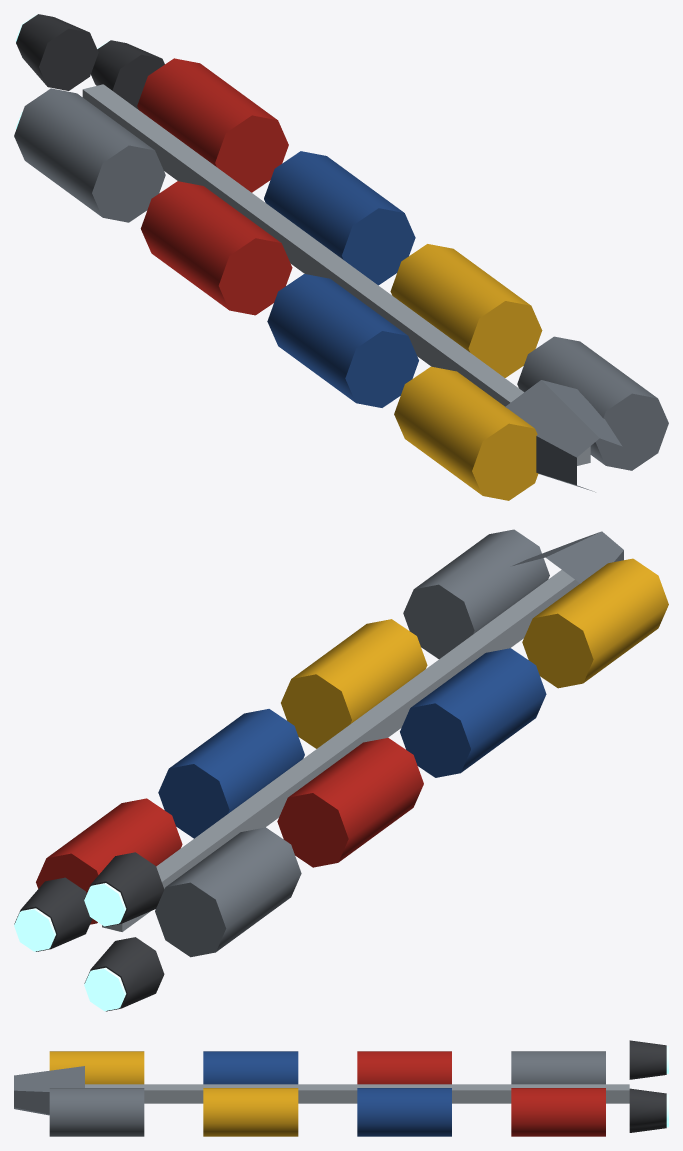
The model's file is space_ship_logistics_mk3.glb.
The picture shows the model from 3 angles, top to bottom: view 1: azimuth 30°, elevation 25°; view 2: azimuth 150°, elevation 25°; view 3: azimuth 270°, elevation 25°; orthographic projection. The views are drawn at different scales.
Visible parts, largest first — view 1: body, pod_0_0, pod_1_0, pod_2_0, pod_3_0, pod_0_1, pod_1_1, pod_2_1, pod_3_1, engine_1, engine_0; view 2: body, pod_0_0, pod_1_0, pod_2_0, pod_3_0, pod_2_1, pod_1_1, pod_3_1, pod_0_1, engine_2, engine_1, engine_0; view 3: body, pod_2_1, pod_3_1, pod_0_1, pod_1_1, pod_2_0, pod_0_0, pod_1_0, pod_3_0, engine_1, engine_0, engine_2.
Part boxes in pixels (x1,y1,x2,y2): body: (82, 84, 622, 492); pod_0_0: (14, 88, 165, 222); pod_1_0: (140, 181, 292, 315); pod_2_0: (267, 274, 418, 407); pod_3_0: (394, 366, 538, 500); pod_0_1: (137, 58, 288, 192); pod_1_1: (264, 151, 415, 285); pod_2_1: (390, 244, 542, 377); pod_3_1: (517, 336, 668, 470); engine_1: (15, 14, 98, 90); engine_0: (91, 40, 164, 109); body: (102, 531, 623, 931); pod_0_0: (155, 827, 301, 957); pod_1_0: (277, 738, 423, 867); pod_2_0: (400, 648, 546, 777); pod_3_0: (522, 558, 668, 688); pod_2_1: (281, 619, 427, 748); pod_1_1: (158, 709, 304, 838); pod_3_1: (403, 529, 549, 658); pod_0_1: (36, 798, 182, 924); engine_2: (84, 937, 164, 1011); engine_1: (84, 852, 164, 926); engine_0: (14, 877, 92, 951); body: (14, 1066, 629, 1115); pod_2_1: (203, 1088, 298, 1136); pod_3_1: (49, 1088, 144, 1136); pod_0_1: (511, 1088, 605, 1136); pod_1_1: (357, 1088, 451, 1136); pod_2_0: (203, 1051, 298, 1084); pod_0_0: (511, 1051, 605, 1084); pod_1_0: (357, 1051, 451, 1084); pod_3_0: (49, 1051, 144, 1084); engine_1: (629, 1040, 668, 1079); engine_0: (629, 1088, 668, 1127); engine_2: (629, 1122, 668, 1132).
Size of what is drawn, in the model's own units: 7.53 by 5.49 by 35.67.
